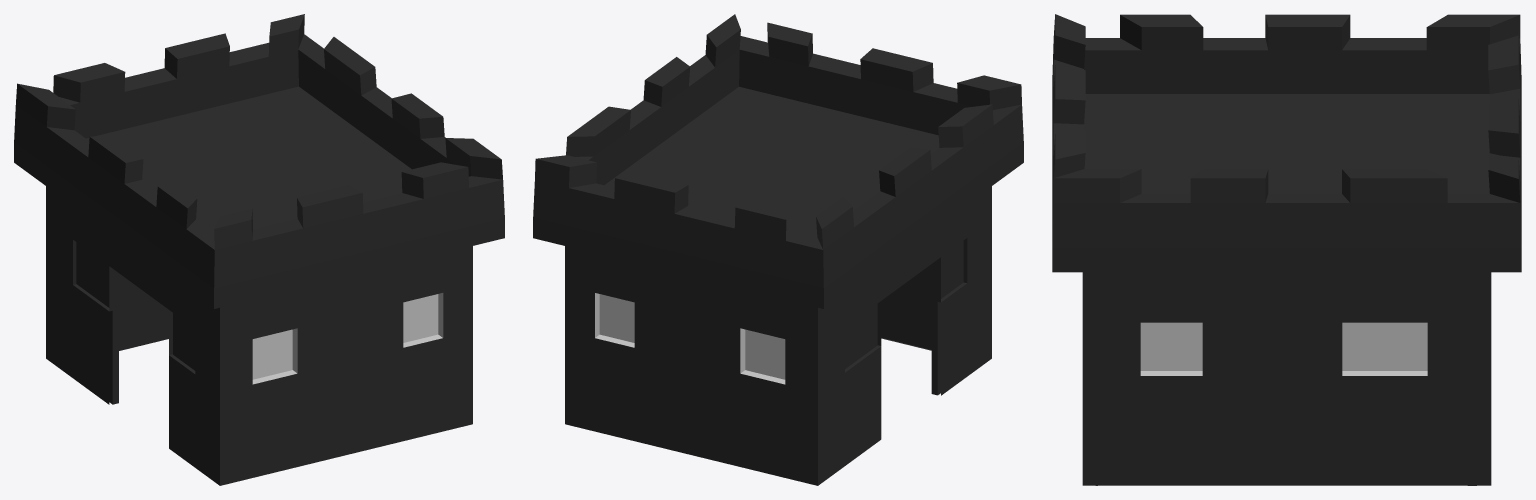
The model's file is centre_tower_piece 1.fbx.
3 renders of one model, left to right at view 1: azimuth 30°, elevation 25°; view 2: azimuth 150°, elevation 25°; view 3: azimuth 270°, elevation 25°, orthographic. The views are drawn at different scales.
Visible parts, largest first — view 1: centre_tower_piece; view 2: centre_tower_piece; view 3: centre_tower_piece.
Boxes of the visible parts, <box> form: centre_tower_piece: <box>14,14,504,485</box>; centre_tower_piece: <box>533,14,1023,485</box>; centre_tower_piece: <box>1052,14,1521,485</box>.
Bounding box in the file's own units: 1513 × 1345 × 1803.
